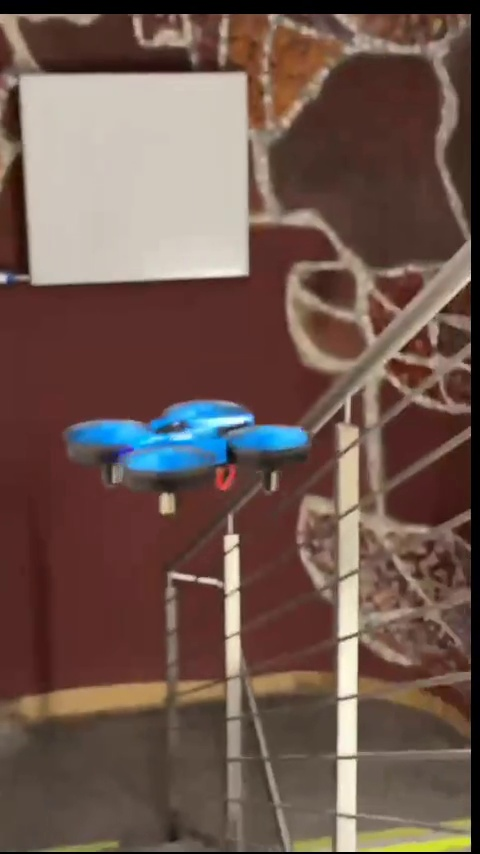drone: (60, 398, 308, 516)
